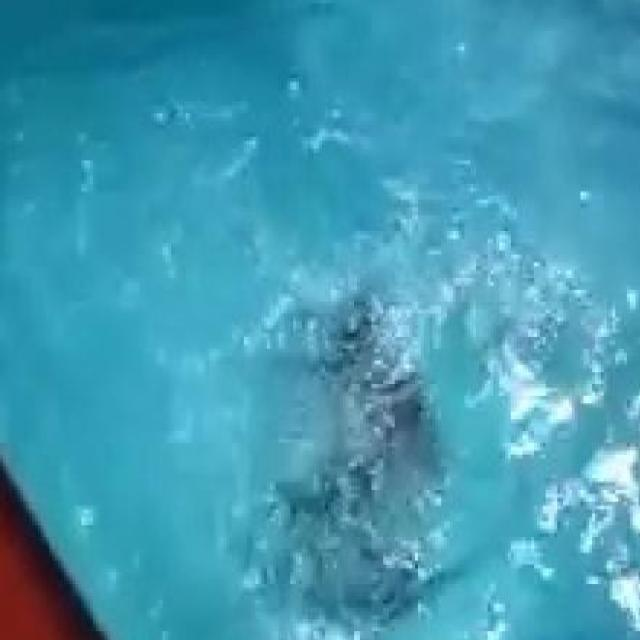Drowning: (235, 292, 450, 614)
